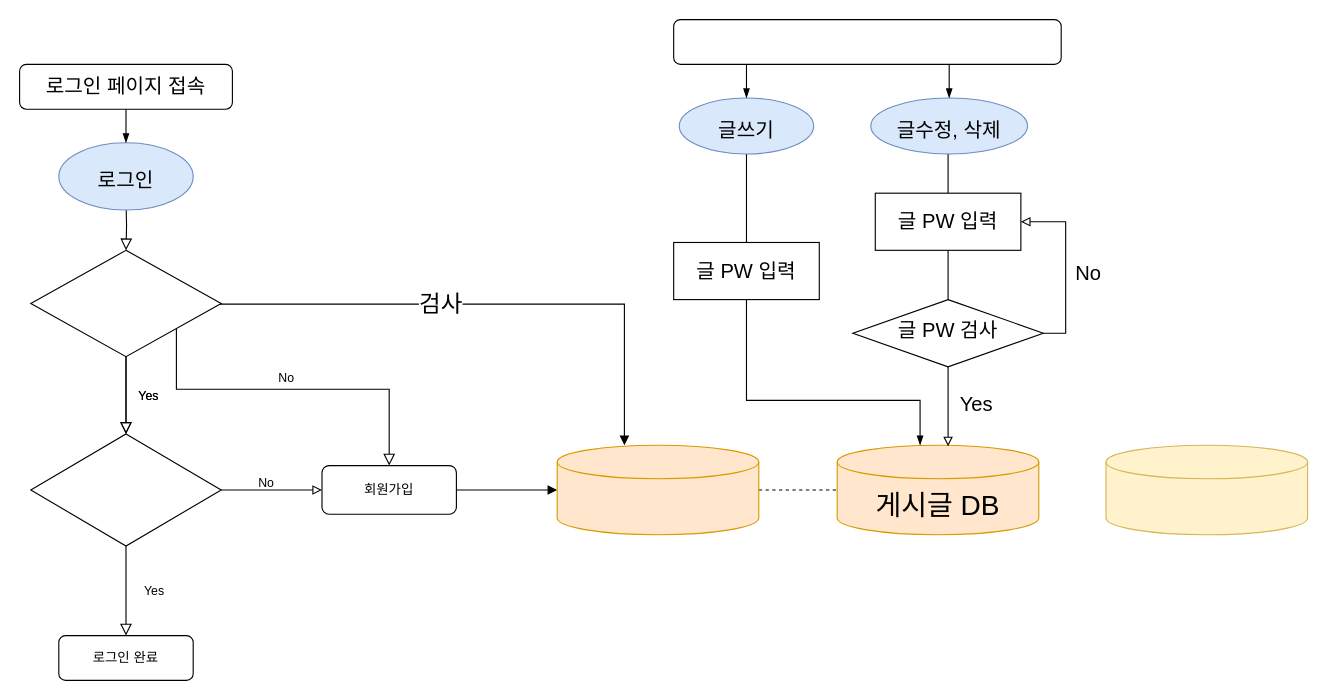
This 1327x700 diagram has some shape labels left out. The shapes that lost their labels are listed below. From the top down, each one's box as (x1, y1, x2, y2) in pixels, then its label:
(673, 18, 1061, 64): 자유게시판, 광고게시판 페이지 접속
(30, 249, 221, 357): 계정 보유 여부
(30, 433, 221, 546): ID, PW 검사
(556, 444, 759, 535): 회원 DB
(1105, 444, 1308, 535): 상권 DB
